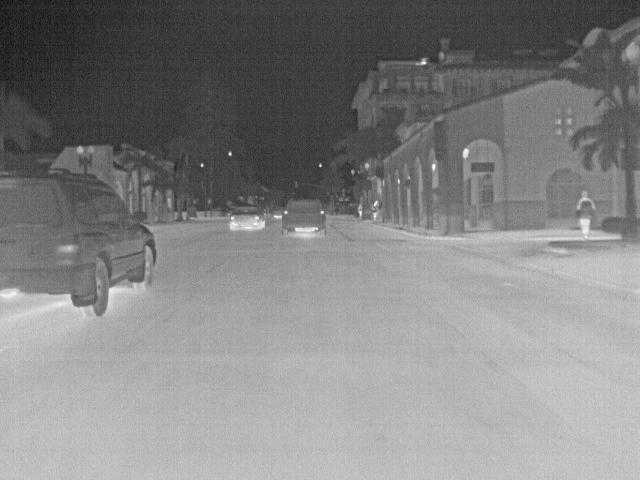car: (0, 166, 159, 320), (281, 198, 328, 237), (228, 206, 265, 232), (268, 208, 281, 221)
person: (575, 188, 595, 243), (370, 199, 380, 221)
